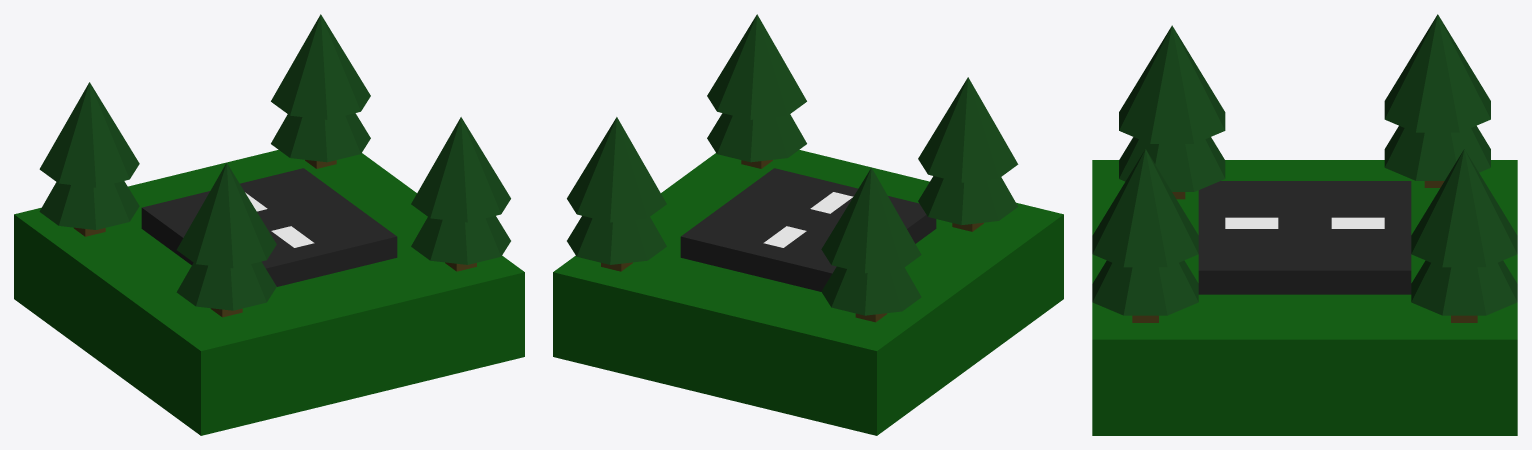
File: start.obj
3 views of the same model, side by side, from view 1: azimuth 30°, elevation 25°; view 2: azimuth 150°, elevation 25°; view 3: azimuth 270°, elevation 25° (orthographic). The views are drawn at different scales.
Visible parts, largest first — view 1: grass, cone, road, cylinder, plane; view 2: grass, cone, road, plane, cylinder; view 3: grass, cone, road, plane, cylinder.
Boxes of the visible parts, box(x1,y1,x2,y2) form: grass: box(14, 150, 524, 435); cone: box(39, 14, 510, 310); road: box(141, 168, 397, 286); cylinder: box(74, 160, 476, 317); plane: box(245, 192, 314, 247); grass: box(553, 150, 1063, 435); cone: box(567, 14, 1018, 315); road: box(680, 168, 936, 291); plane: box(763, 192, 853, 247); cylinder: box(601, 160, 983, 322); grass: box(1092, 160, 1517, 435); cone: box(1092, 14, 1517, 315); road: box(1198, 181, 1411, 294); plane: box(1225, 217, 1384, 228); cylinder: box(1132, 181, 1477, 322).
Bounding box in the file's own units: 0.25 × 0.1719 × 0.25.
Materials: 1 (1 with a texture image).
